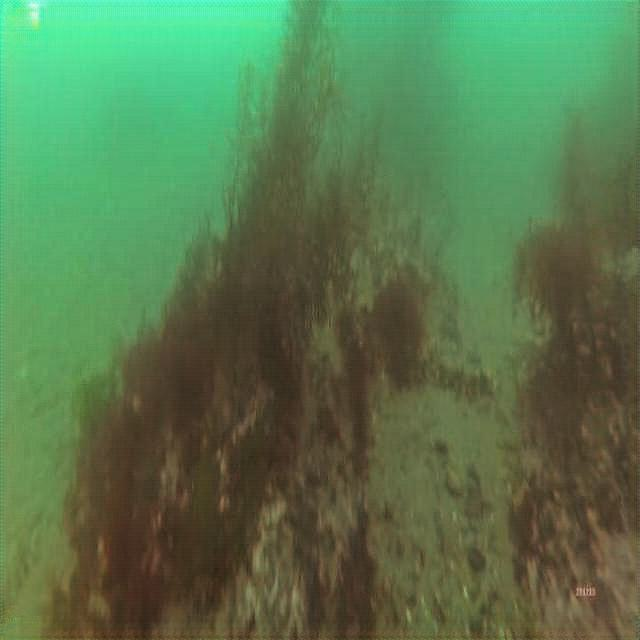holothurian: (428, 344, 494, 408)
